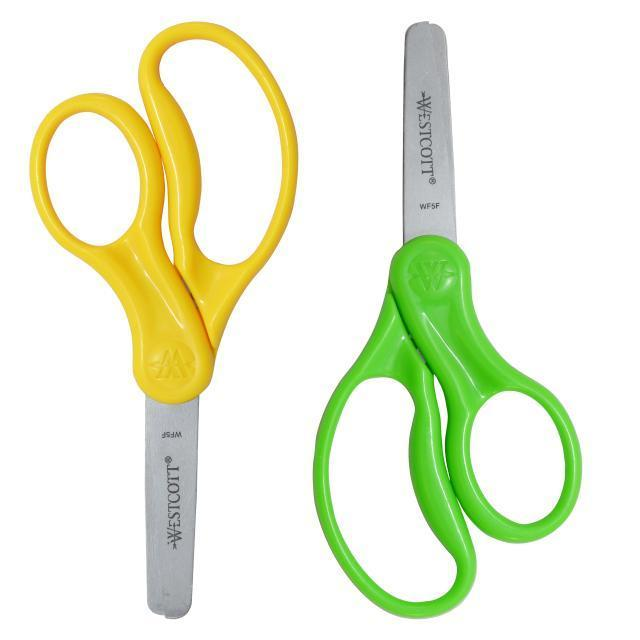scissor: (310, 22, 582, 619), (31, 21, 300, 622)
